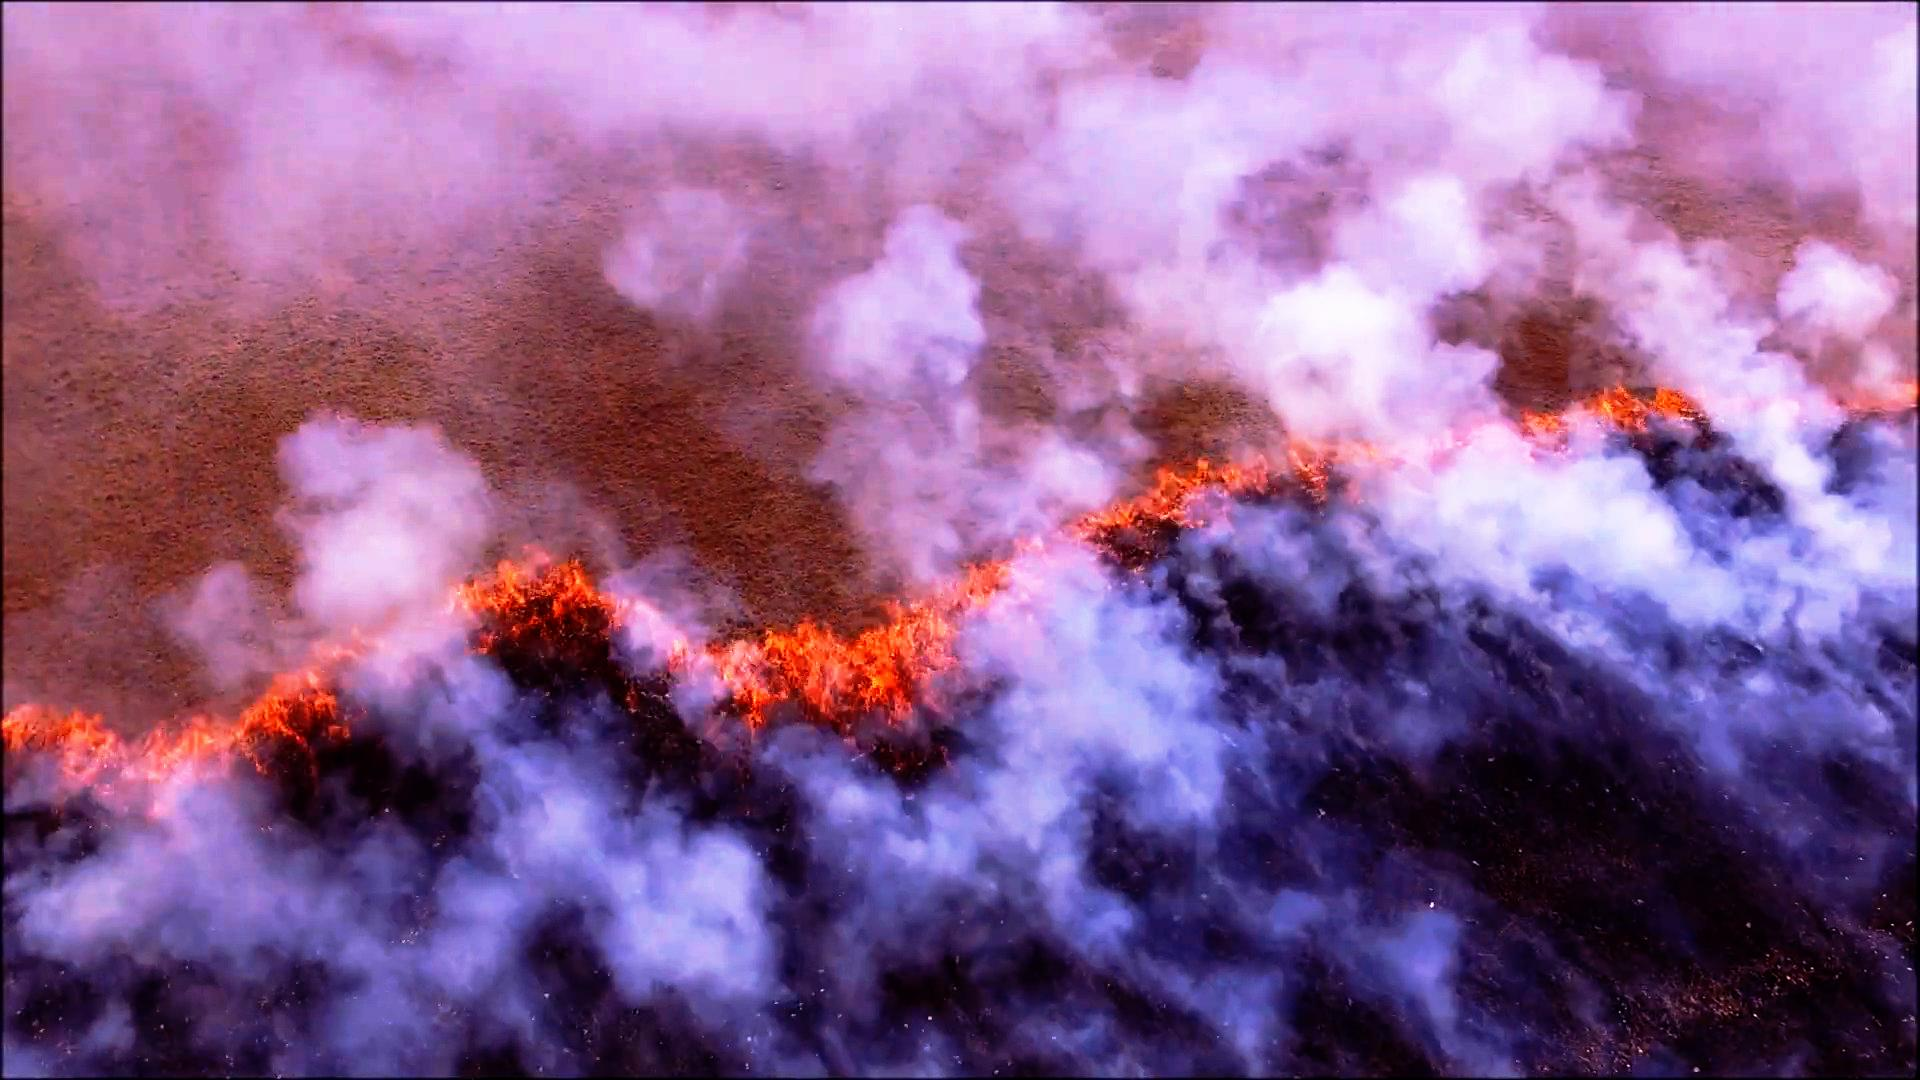fire: (715, 595, 955, 735), (20, 684, 240, 815)
smoke: (11, 5, 1920, 790), (25, 790, 770, 1080), (945, 530, 1290, 1080), (1331, 895, 1549, 1080)
